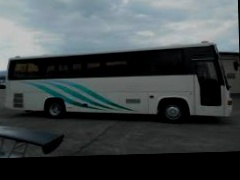bus: (2, 39, 239, 126)
